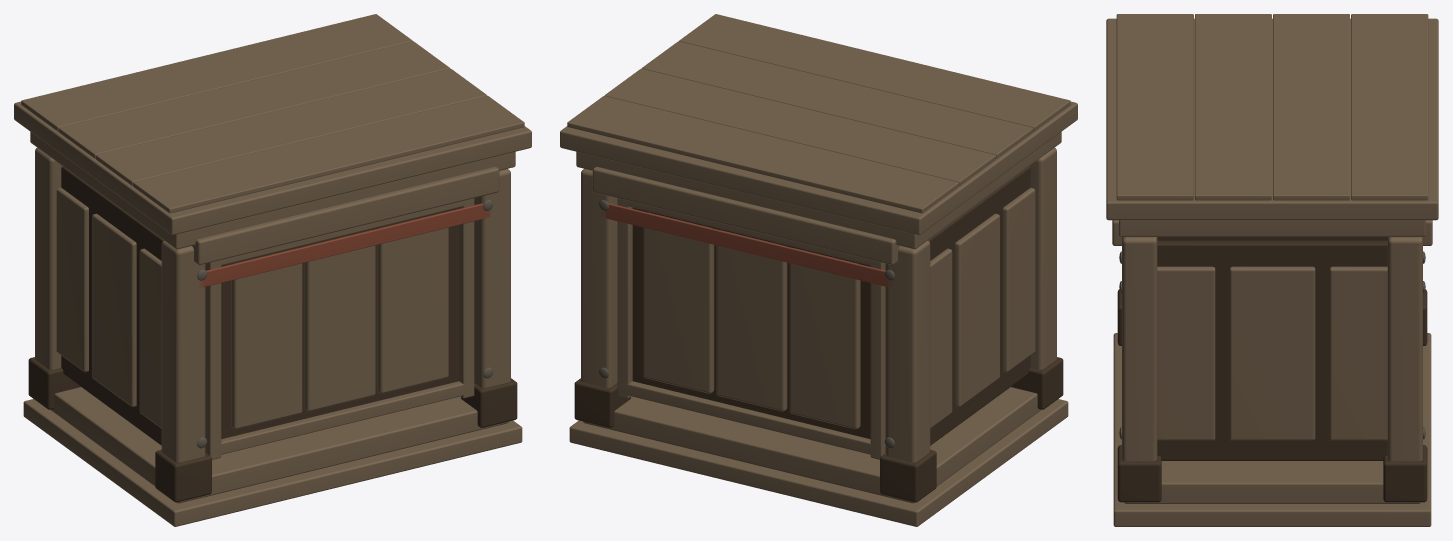
Rendered from seal-altar-v2.fbx.
The picture shows the model from 3 angles, left to right: view 1: azimuth 30°, elevation 25°; view 2: azimuth 150°, elevation 25°; view 3: azimuth 270°, elevation 25°; orthographic projection. The views are drawn at different scales.
Parts seen in each view (by area): view 1: Original seal altar v2; view 2: Original seal altar v2; view 3: Original seal altar v2.
Part boxes in pixels (<box>): Original seal altar v2: <box>14,14,531,526</box>; Original seal altar v2: <box>560,14,1077,526</box>; Original seal altar v2: <box>1106,14,1438,526</box>.
Bounding box in the file's own units: 0.838 × 0.7075 × 0.638.
